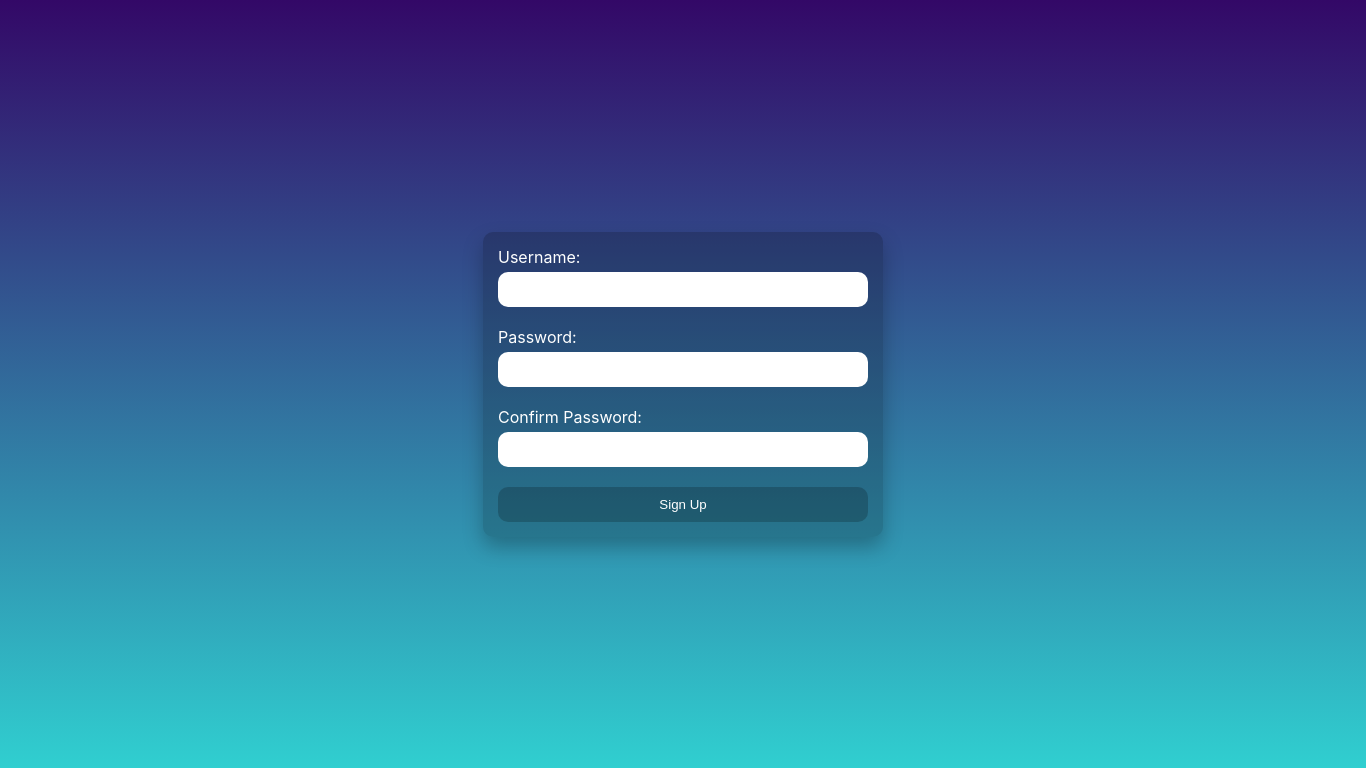
Test: show error on invalid submission › show error on invalid submission
This screenshot has width=1366, height=768.
Type "reshmy" into the field with id "username" at (683, 290), box [498,272,868,307]
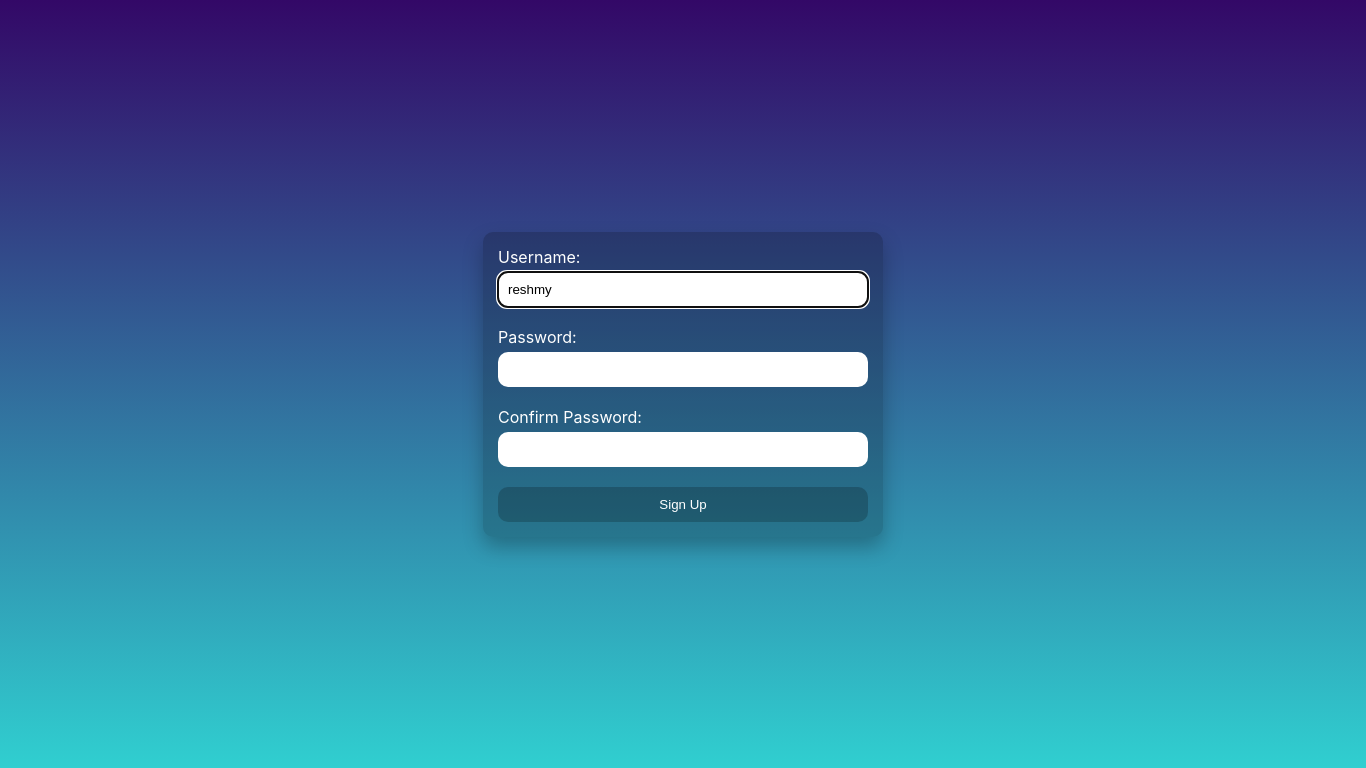
Type "sweetsweet" into the 1st password field at (683, 370), box [498,352,868,387]
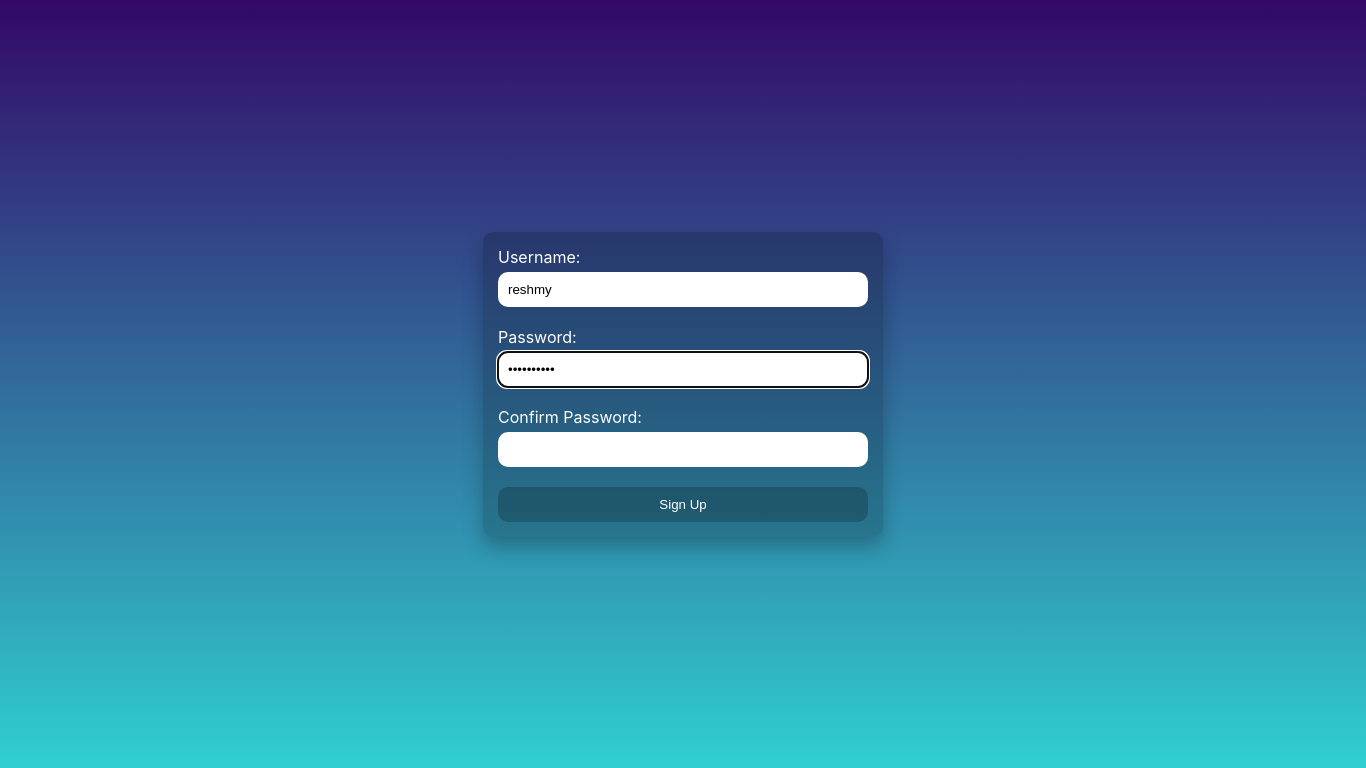
Type "sweetsour" into the password field with id "confirmPassword" at (683, 450), box [498,432,868,467]
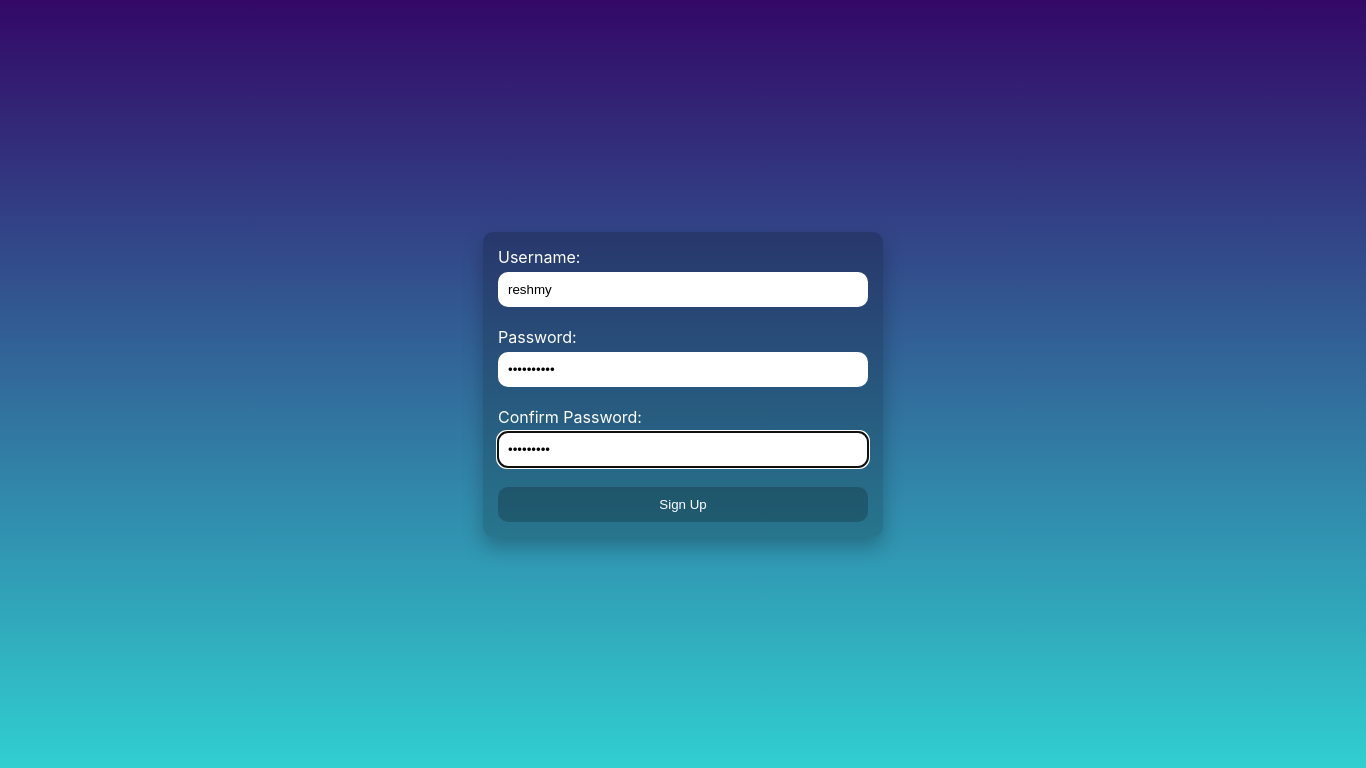
Click the submit button at (683, 505), box [498,487,868,522]
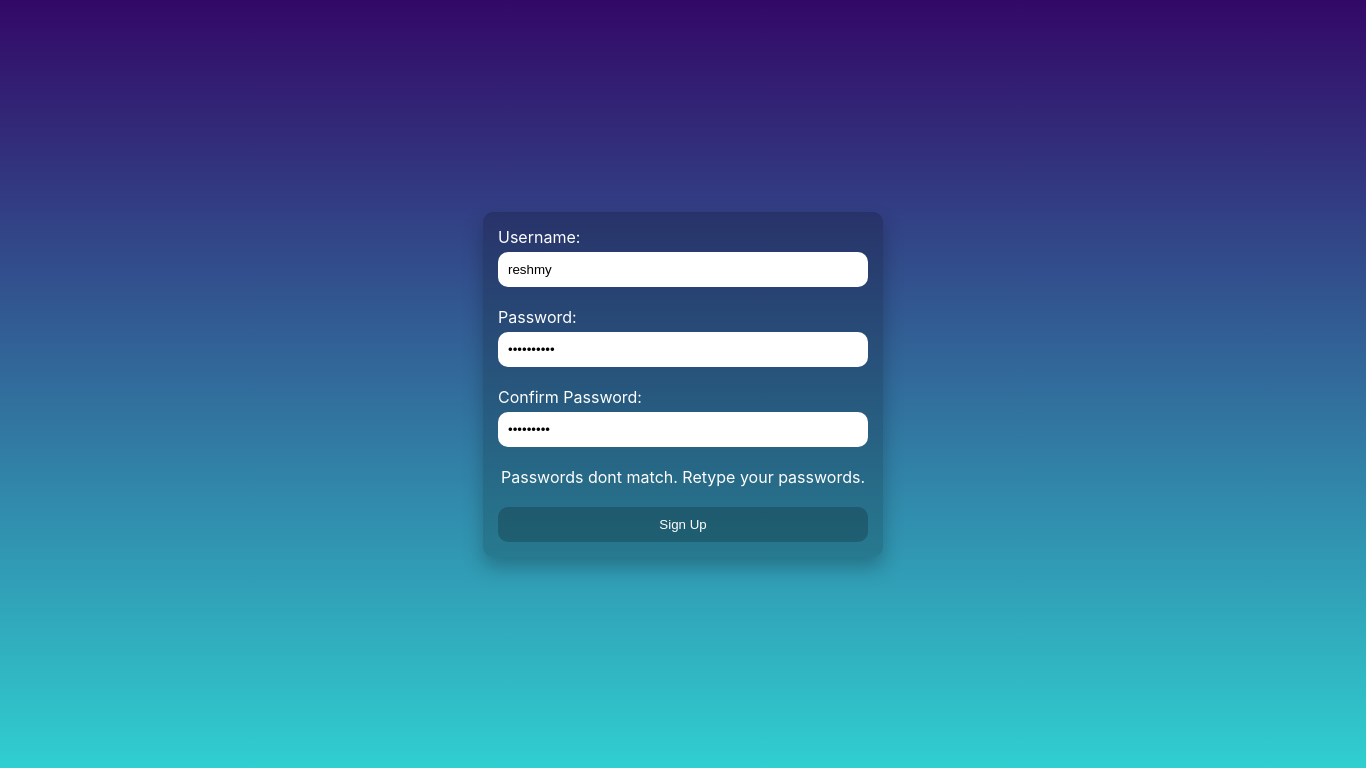
Expected: the text "Passwords dont match. Retype your passwords." is shown, [498,466,868,486]
